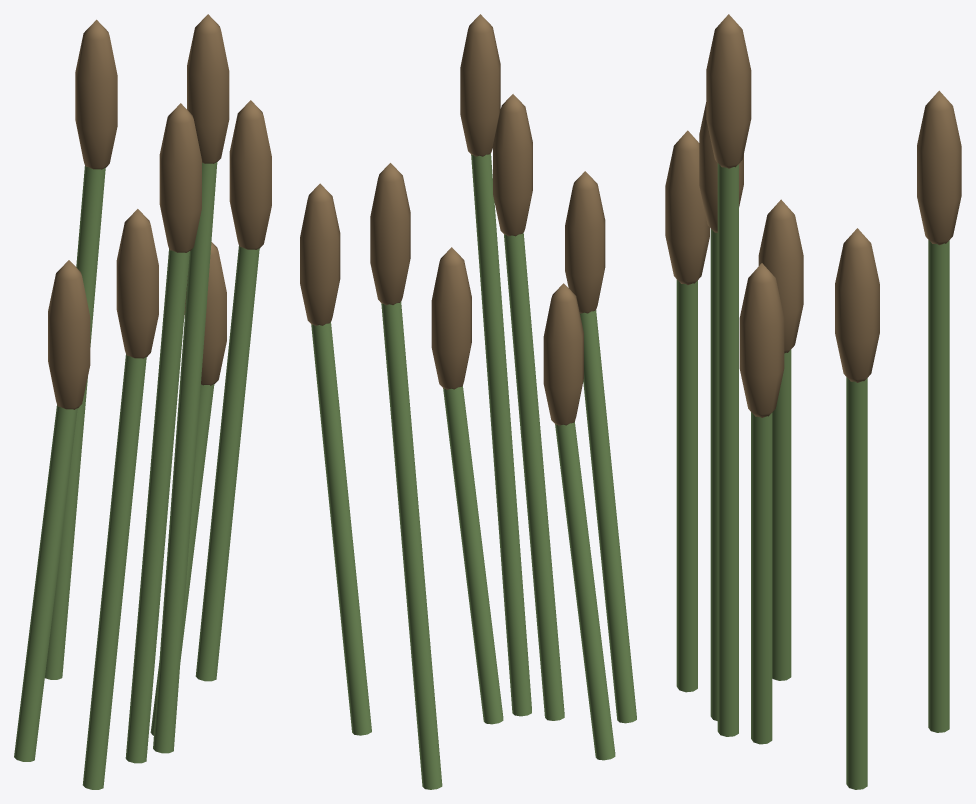
The model's file is reed.glb.
3 views of the same model, side by side, from view 1: azimuth 30°, elevation 25°; view 2: azimuth 150°, elevation 25°; view 3: azimuth 270°, elevation 25° (orthographic). The views are drawn at different scales.
Parts seen in each view (by area): view 1: Stalk0, Seed0; view 2: Stalk0, Seed0; view 3: Stalk0, Seed0.
Part boxes in pixels (<box>): Stalk0: <box>14,162,259,789</box>; Seed0: <box>48,14,271,409</box>; Stalk0: <box>311,153,636,789</box>; Seed0: <box>300,14,605,425</box>; Stalk0: <box>676,163,949,789</box>; Seed0: <box>665,14,961,417</box>.
Size of the model in its own units: 0.657 by 1.56 by 0.5661.
